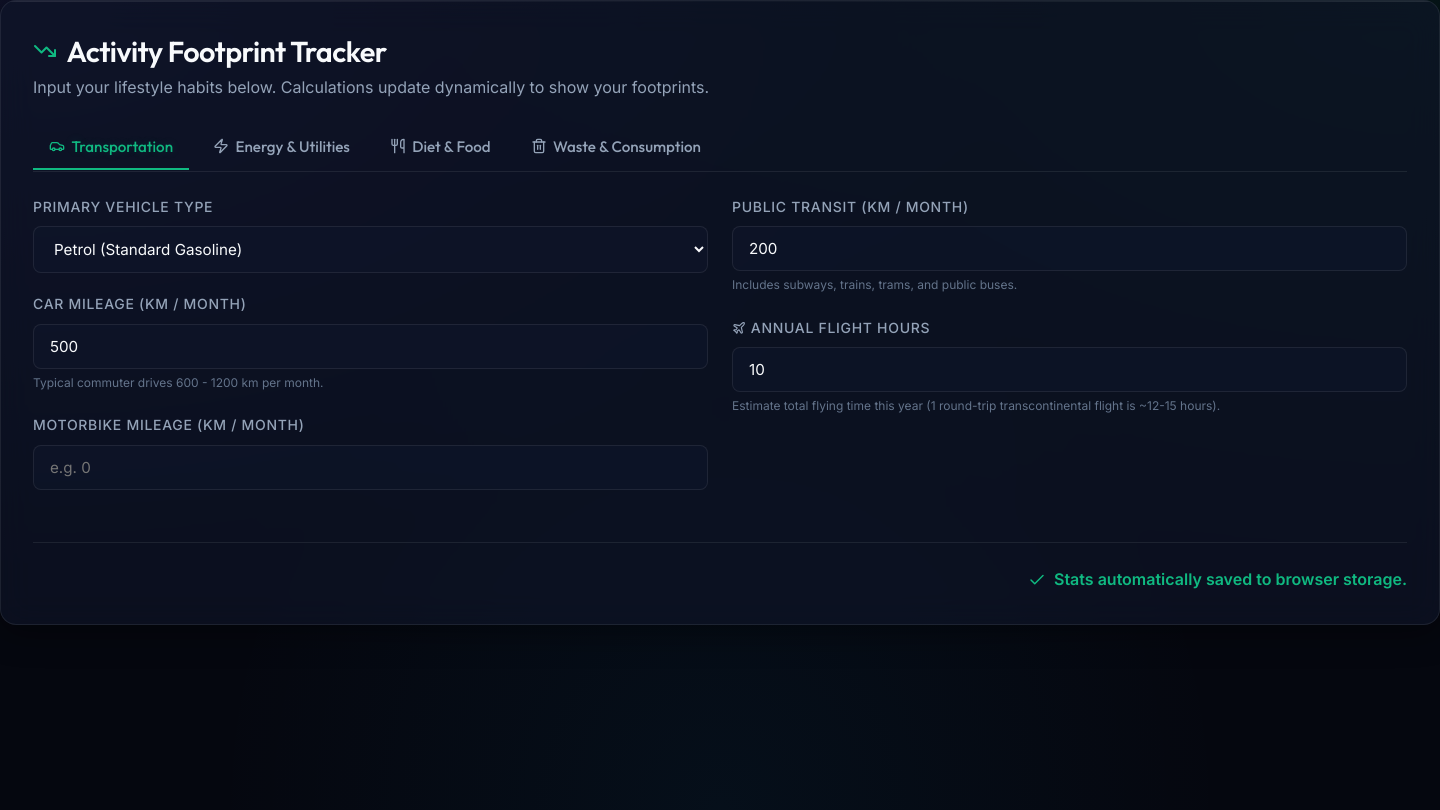
Scenario: CarbonCalculator Component › switches tabs and displays corresponding inputs when clicking tab buttons
// Switch to Energy tab
Click the tab "Energy & Utilities" at (281, 148), box [197,125,366,170]
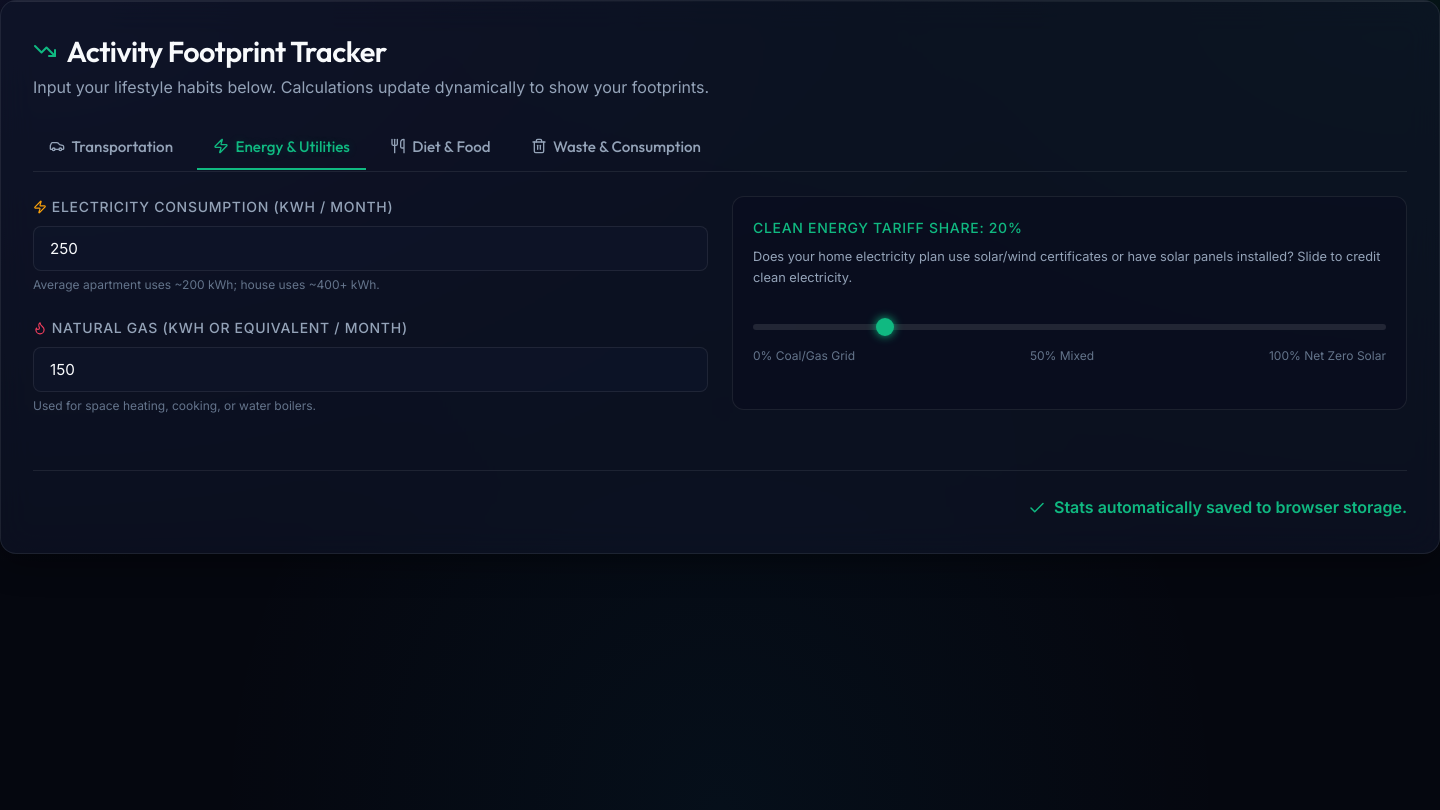
Expected: the number field labelled "Electricity Consumption (kWh / month)" is shown, [33,226,708,271]
Expected: the number field labelled "Natural Gas (kWh or equivalent / month)" is shown, [33,347,708,392]
// Switch to Diet tab
Click the tab "Diet & Food" at (440, 148), box [374,125,507,170]
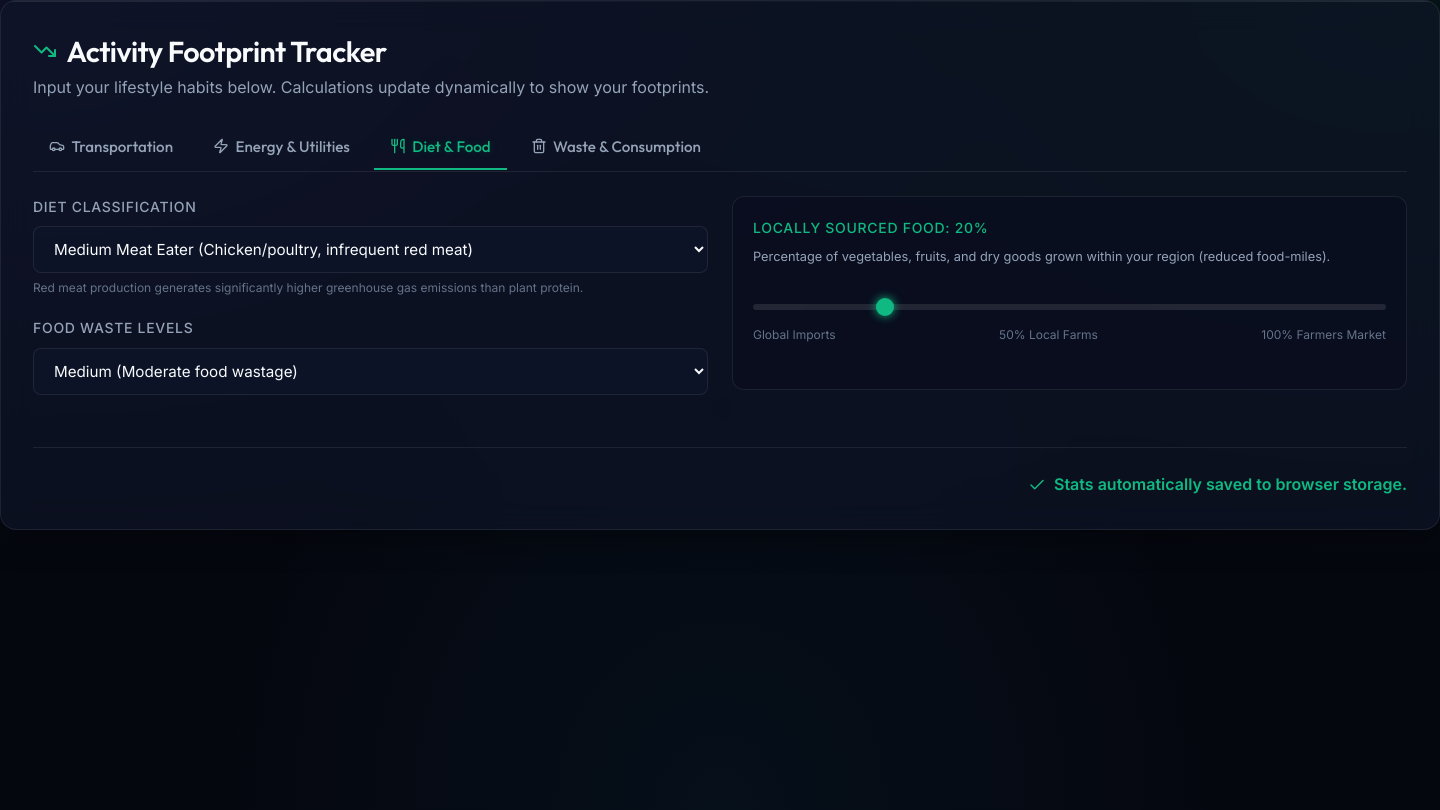
Expected: the dropdown labelled "Diet Classification" is shown, [33,226,708,273]
Expected: the dropdown labelled "Food Waste Levels" is shown, [33,348,708,395]
